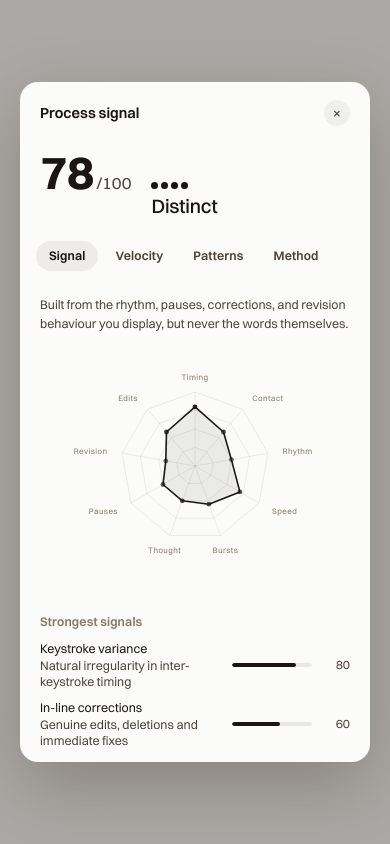
HumanSignalPanel › renders pause distribution and composition on the Patterns tab
Click the tab "Patterns" at (218, 256), box [180,241,256,271]
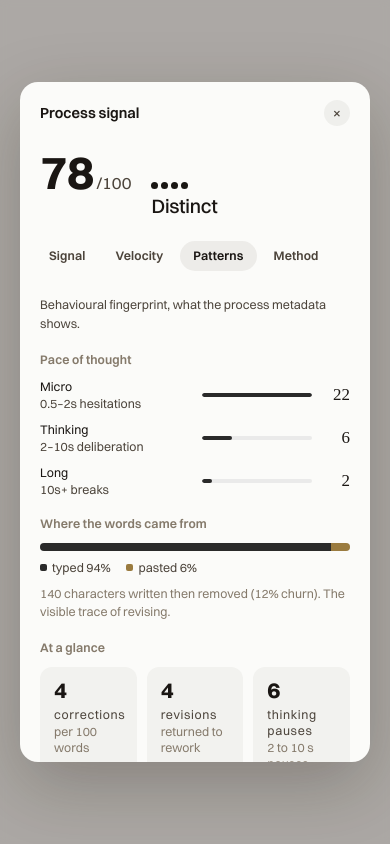
Now the number of elements with class "hs-pause-row" is 3, box [40,379,350,412]; [40,422,350,455]; [40,465,350,498]
Now the element with class "hs-comp-bar" is shown, box [40,543,350,551]
